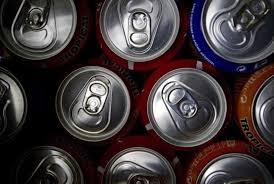Aluminum can: (144, 73, 231, 154), (183, 0, 269, 75), (86, 0, 184, 61), (63, 67, 132, 141), (0, 0, 87, 57)
